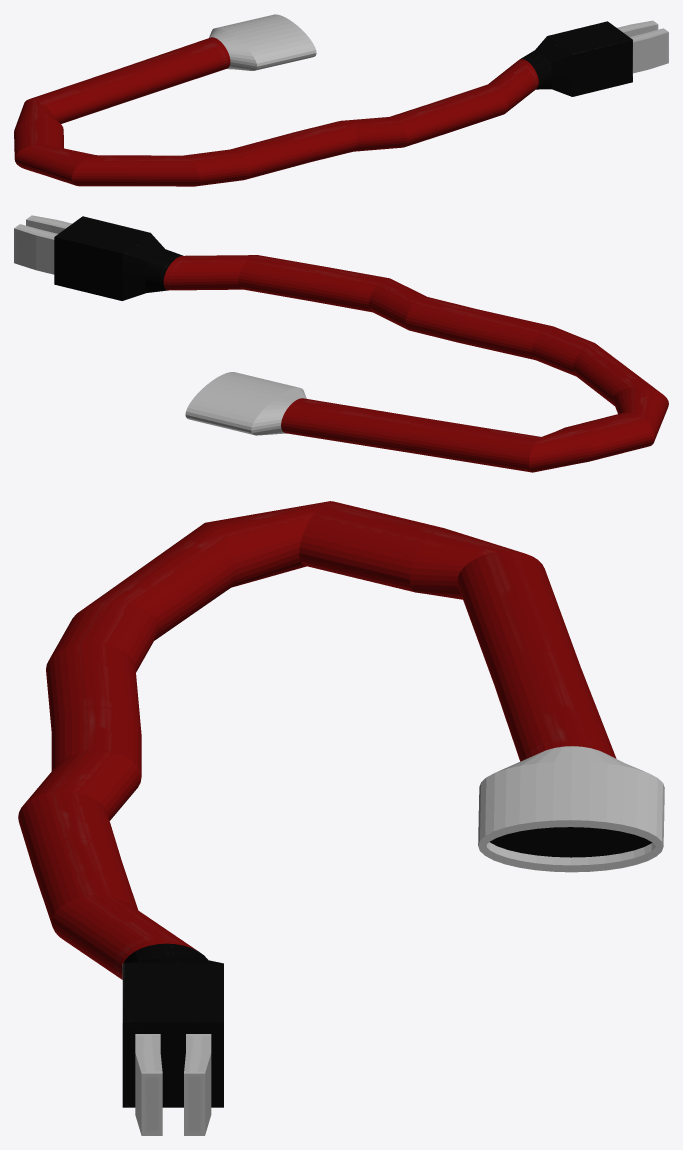
File: JBayer_PowerCord.fbx
3 renders of one model, top to bottom at view 1: azimuth 30°, elevation 25°; view 2: azimuth 150°, elevation 25°; view 3: azimuth 270°, elevation 25°, orthographic. The views are drawn at different scales.
Parts seen in each view (by area): view 1: Cylinder; view 2: Cylinder; view 3: Cylinder.
Boxes of the visible parts, left/top/right/bottom form: Cylinder: left=14, top=14, right=668, bottom=186; Cylinder: left=14, top=215, right=668, bottom=472; Cylinder: left=18, top=501, right=664, bottom=1135.
Size of the model in its own units: 118 by 7.9 by 54.42.
1 material, 1 textured.
